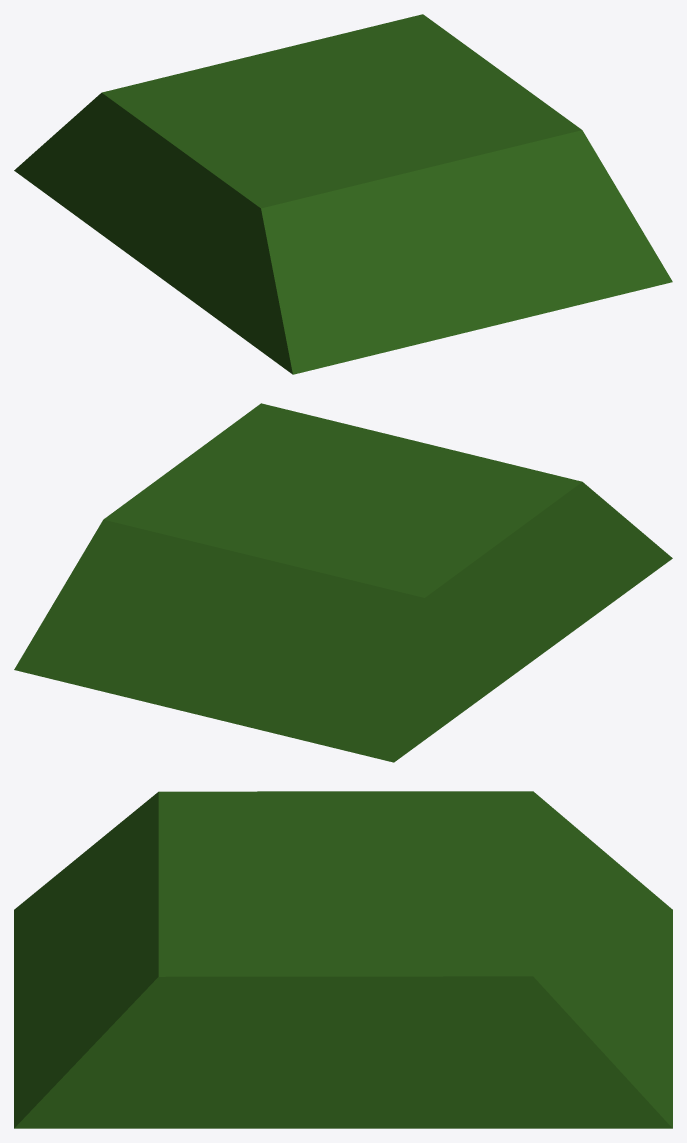
File: turela.fbx
3 views of the same model, one above another, from view 1: azimuth 30°, elevation 25°; view 2: azimuth 150°, elevation 25°; view 3: azimuth 270°, elevation 25° (orthographic). The views are drawn at different scales.
Visible parts, largest first — view 1: Cube.001; view 2: Cube.001; view 3: Cube.001.
Boxes of the visible parts, x1,y1,x2,y2 form: Cube.001: (14, 14, 672, 374); Cube.001: (14, 403, 672, 762); Cube.001: (14, 791, 672, 1128).
Bounding box in the file's own units: 253 × 72.76 × 322.
